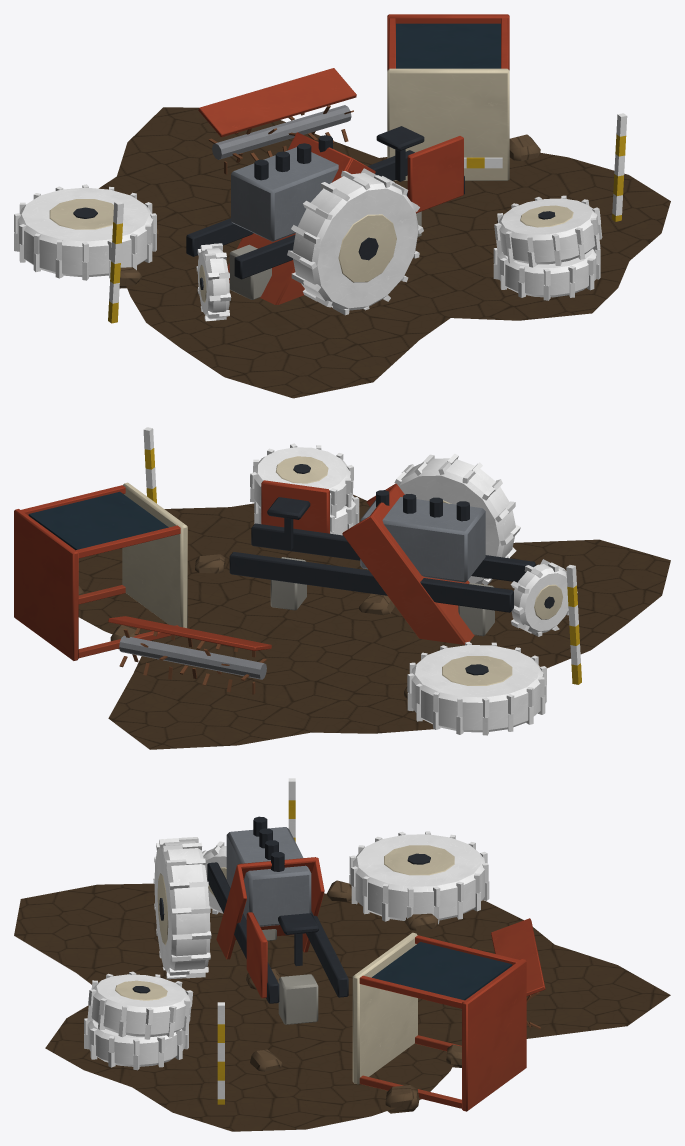
The model's file is thresher_tractor_graveyard.glb.
3 views of the same model, one above another, from view 1: azimuth 30°, elevation 25°; view 2: azimuth 150°, elevation 25°; view 3: azimuth 270°, elevation 25° (orthographic).
Visible parts, largest first — view 1: thresher_tractor_graveyard; view 2: thresher_tractor_graveyard; view 3: thresher_tractor_graveyard.
Part boxes in pixels (x1,y1,x2,y2): thresher_tractor_graveyard: (14,14,670,398); thresher_tractor_graveyard: (14,427,670,749); thresher_tractor_graveyard: (14,778,670,1131).
Size of the model in its own units: 8.86 by 2.5 by 9.29.
17 materials, 17 textured.
